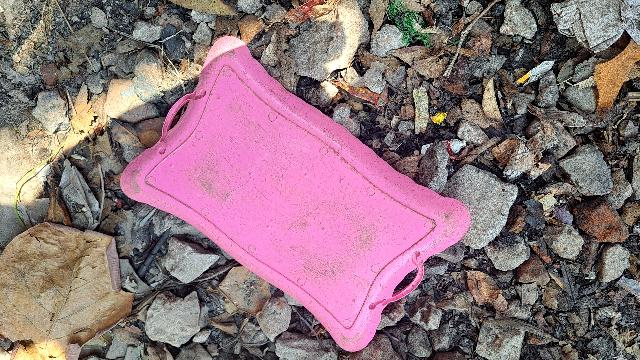hardplastic: (110, 36, 477, 360)
